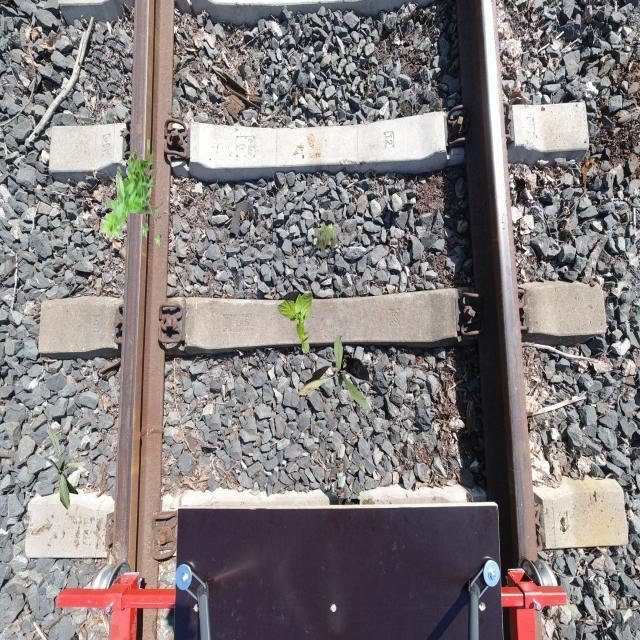Plant: (99, 139, 164, 246), (298, 335, 370, 410), (46, 427, 86, 510), (277, 291, 312, 354), (315, 222, 341, 254)
